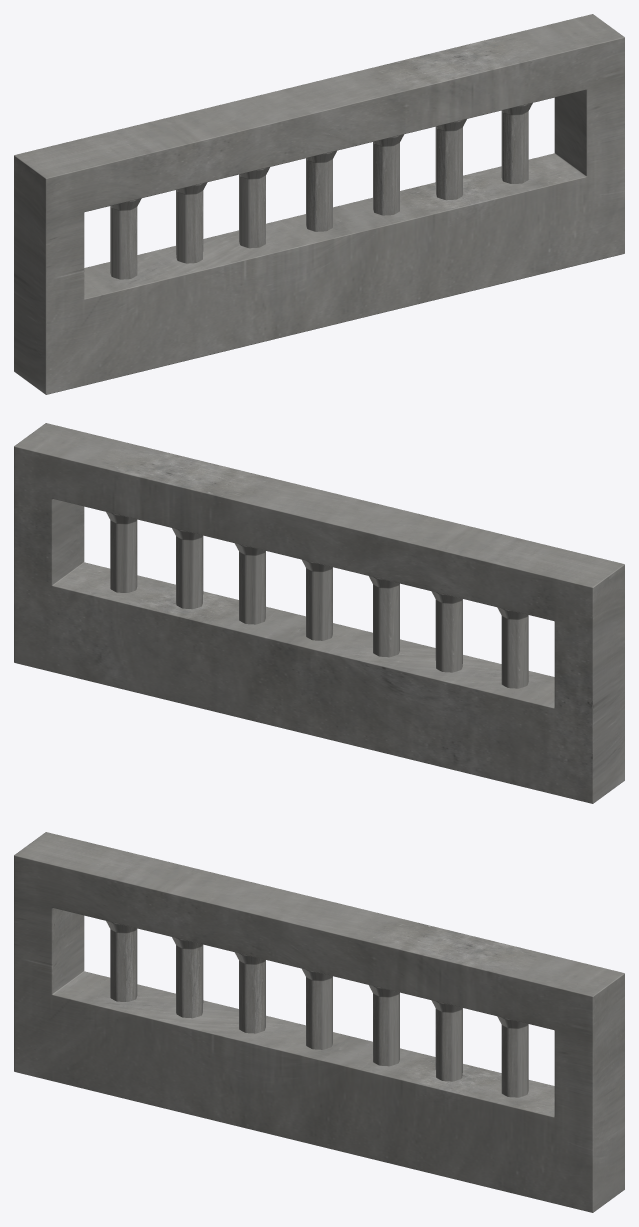
Rendered from fence.glb.
3 views of the same model, one above another, from view 1: azimuth 30°, elevation 25°; view 2: azimuth 150°, elevation 25°; view 3: azimuth 330°, elevation 25° (orthographic).
Visible parts, largest first — view 1: group4; view 2: group4; view 3: group4.
Part boxes in pixels (x1,y1,x2,y2): group4: (14, 14, 624, 394); group4: (14, 423, 624, 803); group4: (14, 832, 624, 1212).
Size of the model in its own units: 5.9 by 2.11 by 0.5686.
Materials: 1 (1 with a texture image).
